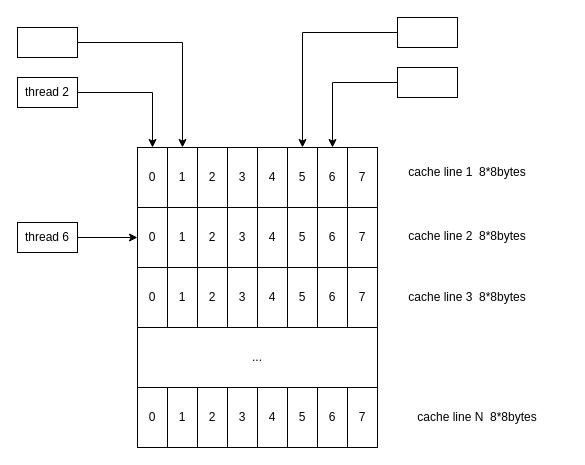
Some shapes in this 585 by 465 pixel diagram are drawn without their labels. The centre of each missing label's shape, as x and y in pixels:
"thread 1" belongs at [47,42].
"thread 3" belongs at [427,32].
"thread 4" belongs at [427,82].
